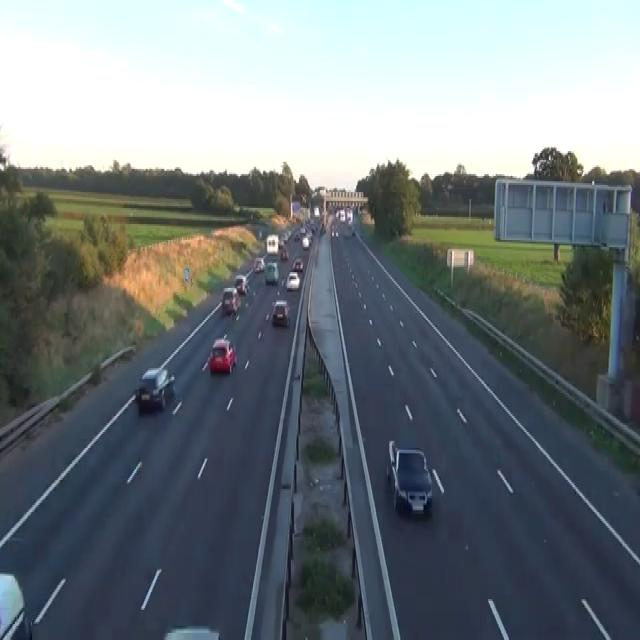Car: (386, 439, 432, 517), (0, 571, 32, 638), (134, 366, 175, 411), (208, 334, 236, 374), (163, 624, 220, 638), (221, 286, 240, 315), (271, 299, 290, 327), (234, 274, 249, 295), (264, 262, 278, 284), (285, 270, 300, 290), (253, 256, 264, 272), (292, 258, 303, 272), (343, 222, 353, 236), (280, 247, 289, 260), (301, 236, 309, 249), (308, 220, 316, 233), (319, 222, 326, 235), (281, 231, 289, 242), (331, 224, 338, 236), (300, 224, 307, 235), (278, 238, 284, 249), (294, 231, 300, 240), (258, 230, 262, 238)
Truck: (266, 233, 278, 254)
